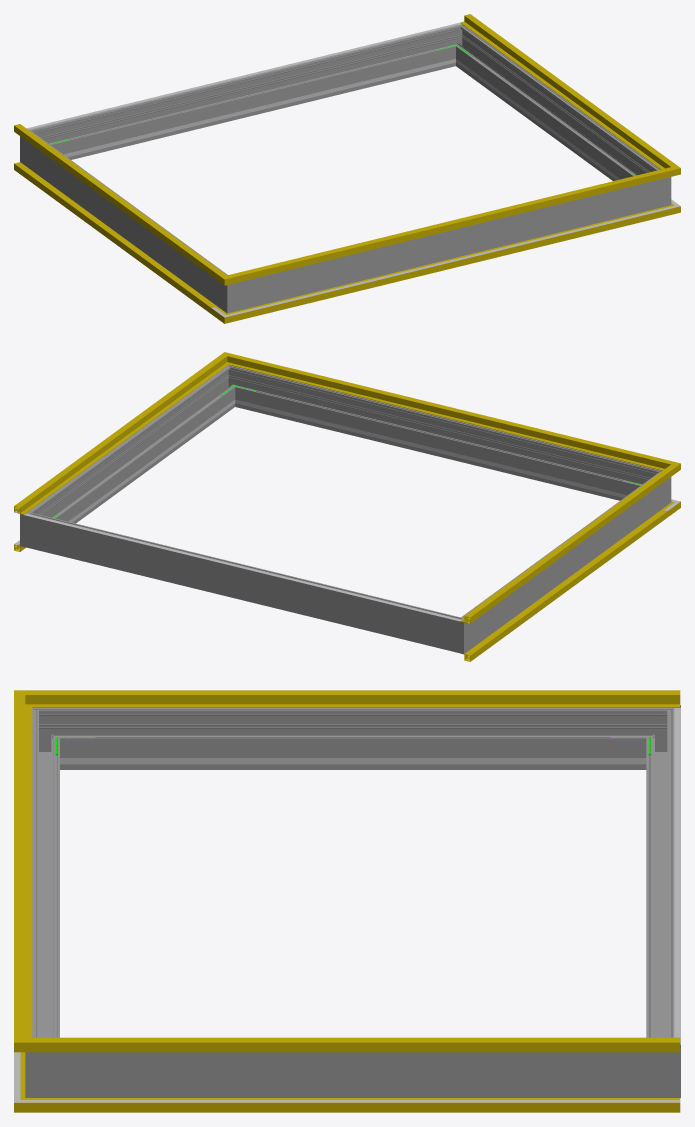
3 renders of one model, top to bottom at view 1: azimuth 30°, elevation 25°; view 2: azimuth 150°, elevation 25°; view 3: azimuth 270°, elevation 25°, orthographic. The views are drawn at different scales.
Visible parts, largest first — view 1: 3DGeom-276, 3DGeom-298, 3DGeom-297, 3DGeom-268, 3DGeom-123, 3DGeom-11, 3DGeom-128, 3DGeom-118, 3DGeom-6, 3DGeom-244, 3DGeom-220, 3DGeom-20 (+6 smaller); view 2: 3DGeom-298, 3DGeom-276, 3DGeom-297, 3DGeom-123, 3DGeom-268, 3DGeom-128, 3DGeom-118, 3DGeom-6, 3DGeom-239, 3DGeom-278, 3DGeom-220, 3DGeom-284 (+4 smaller); view 3: 3DGeom-268, 3DGeom-297, 3DGeom-118, 3DGeom-128, 3DGeom-276, 3DGeom-16, 3DGeom-298, 3DGeom-123, 3DGeom-232, 3DGeom-220, 3DGeom-284, 3DGeom-290 (+5 smaller).
Boxes of the visible parts, box(x1,y1,x2,y2) form: 3DGeom-276: box(45, 29, 451, 159); 3DGeom-298: box(250, 182, 648, 307); 3DGeom-297: box(458, 32, 654, 180); 3DGeom-268: box(33, 138, 220, 303); 3DGeom-123: box(244, 171, 658, 279); 3DGeom-11: box(244, 209, 658, 318); 3DGeom-128: box(460, 14, 667, 166); 3DGeom-118: box(14, 124, 216, 275); 3DGeom-6: box(14, 162, 217, 313); 3DGeom-244: box(72, 64, 433, 155); 3DGeom-220: box(26, 22, 461, 129); 3DGeom-20: box(245, 210, 657, 311); 3DGeom-298: box(239, 369, 646, 500); 3DGeom-276: box(42, 516, 444, 648); 3DGeom-297: box(37, 373, 232, 523); 3DGeom-123: box(242, 357, 657, 467); 3DGeom-268: box(470, 478, 657, 644); 3DGeom-128: box(14, 361, 221, 514); 3DGeom-118: box(460, 471, 667, 623); 3DGeom-6: box(461, 509, 667, 661); 3DGeom-239: box(257, 405, 619, 496); 3DGeom-278: box(441, 611, 477, 654); 3DGeom-220: box(24, 513, 461, 621); 3DGeom-284: box(20, 505, 46, 551); 3DGeom-268: box(67, 708, 639, 769); 3DGeom-297: box(67, 1052, 639, 1097); 3DGeom-118: box(55, 690, 680, 707); 3DGeom-128: box(55, 1037, 680, 1052); 3DGeom-276: box(646, 722, 674, 1037); 3DGeom-16: box(55, 1098, 680, 1112); 3DGeom-298: box(32, 722, 59, 1037); 3DGeom-123: box(14, 707, 32, 1034); 3DGeom-232: box(100, 758, 605, 763); 3DGeom-220: box(674, 707, 680, 1044); 3DGeom-284: box(639, 1030, 680, 1097); 3DGeom-290: box(25, 1030, 66, 1097).
Size of the model in its own units: 3.05 by 0.2836 by 2.44.
